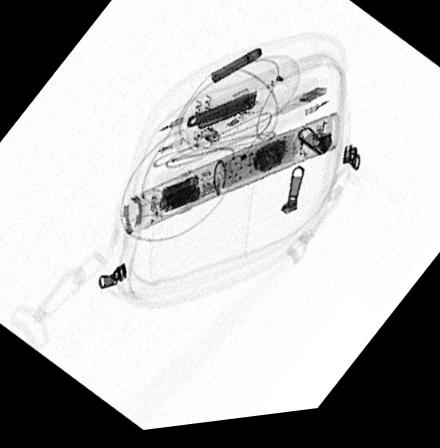Baton: (120, 120, 340, 238)
